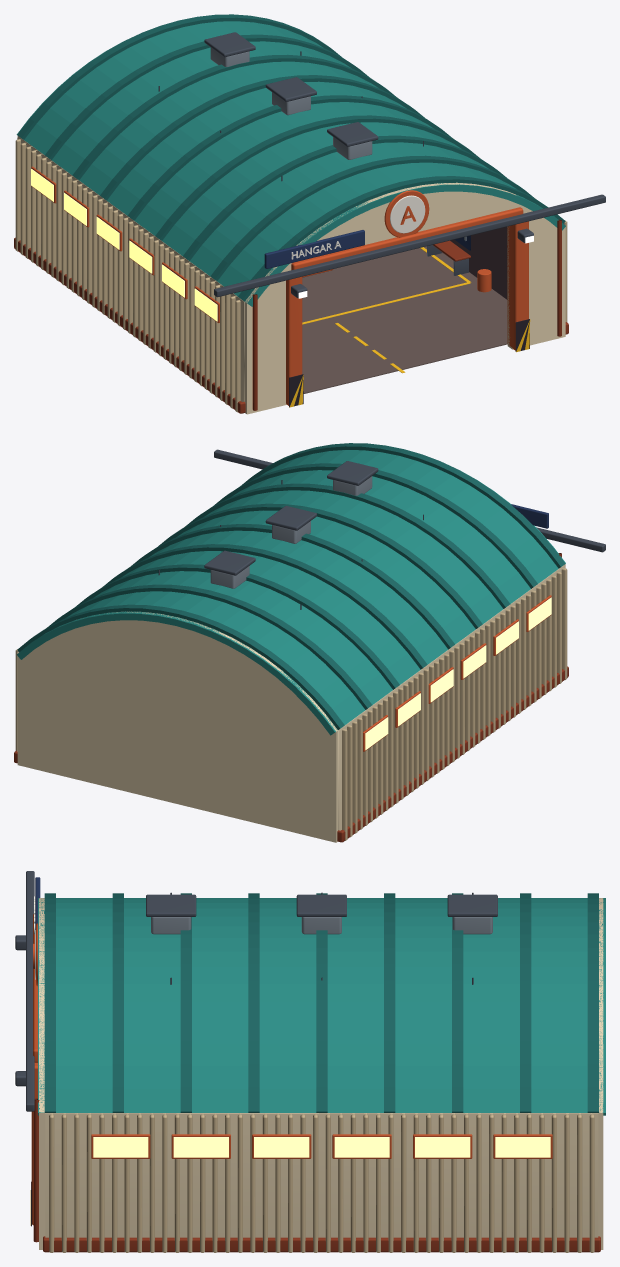
File: dune_hangar_a.glb
3 views of the same model, one above another, from view 1: azimuth 30°, elevation 25°; view 2: azimuth 150°, elevation 25°; view 3: azimuth 270°, elevation 25° (orthographic). The views are drawn at different scales.
Visible parts, largest first — view 1: HangarA; view 2: HangarA; view 3: HangarA.
Boxes of the visible parts, left/top/right/bottom form: HangarA: left=14, top=14, right=605, bottom=414; HangarA: left=14, top=443, right=605, bottom=842; HangarA: left=14, top=871, right=605, bottom=1252.
Size of the model in its own units: 22 by 11 by 23.55.
